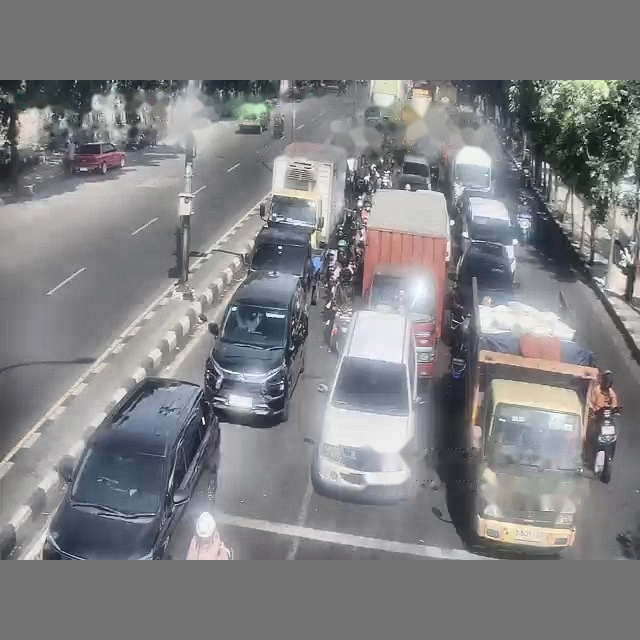Mobil: (42, 377, 219, 559), (311, 310, 421, 501), (204, 271, 308, 421), (249, 225, 317, 305), (462, 197, 518, 278), (451, 243, 516, 312), (73, 142, 125, 174)
Motor: (592, 407, 620, 483), (517, 212, 531, 243)
Truk: (462, 282, 597, 554), (362, 190, 450, 386), (260, 142, 347, 252)
